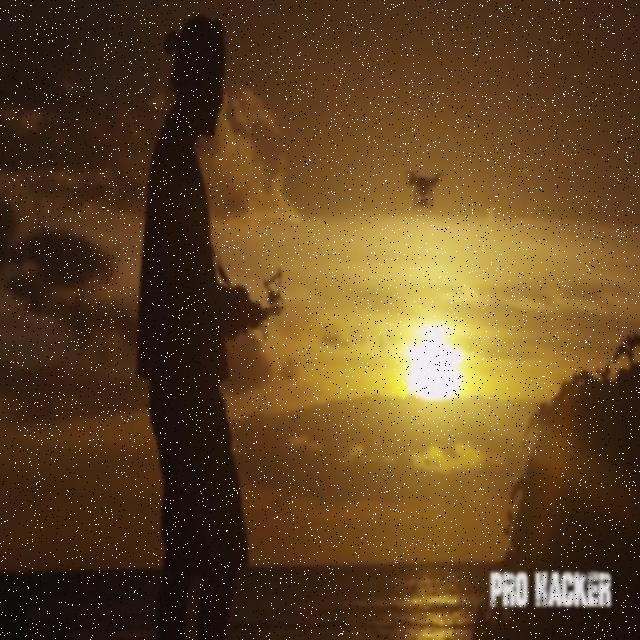UAV: (406, 171, 444, 209)
